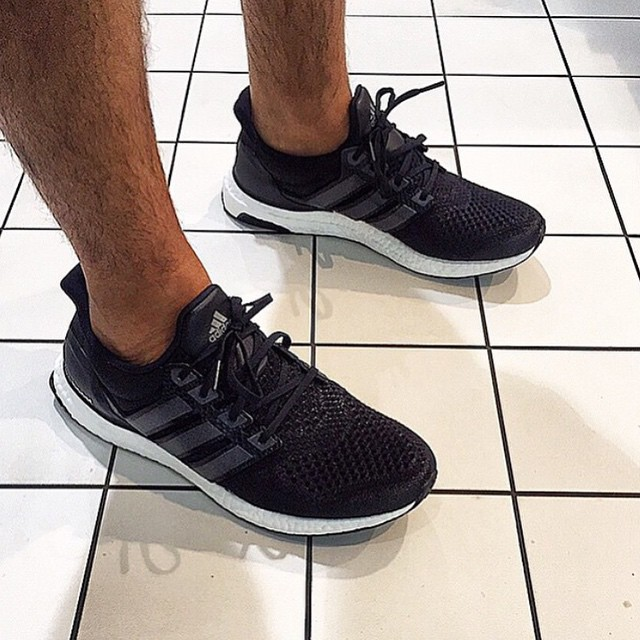sneaker: (32, 240, 455, 570), (210, 72, 558, 290)
